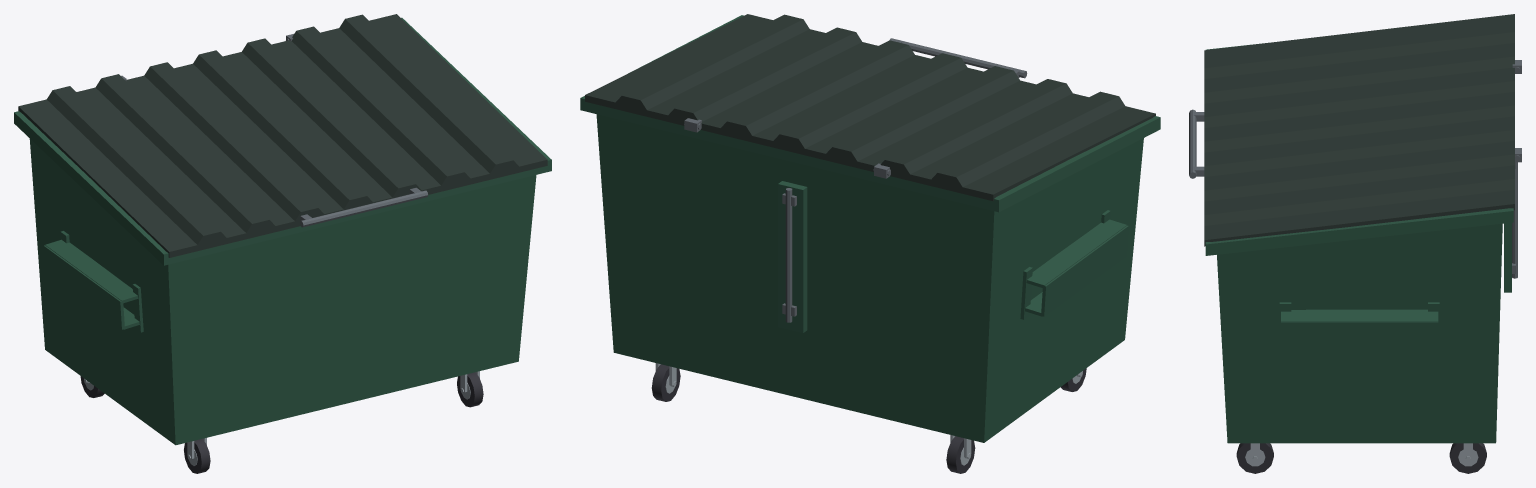
The model's file is dumpster.fbx.
3 views of the same model, side by side, from view 1: azimuth 30°, elevation 25°; view 2: azimuth 150°, elevation 25°; view 3: azimuth 270°, elevation 25° (orthographic). The views are drawn at different scales.
Parts seen in each view (by area): view 1: Dumpster; view 2: Dumpster; view 3: Dumpster.
Boxes of the visible parts, x1,y1,x2,y2 form: Dumpster: (14,14,551,473); Dumpster: (580,14,1160,473); Dumpster: (1189,14,1521,473).
Size of the model in its own units: 206 by 144 by 144.
